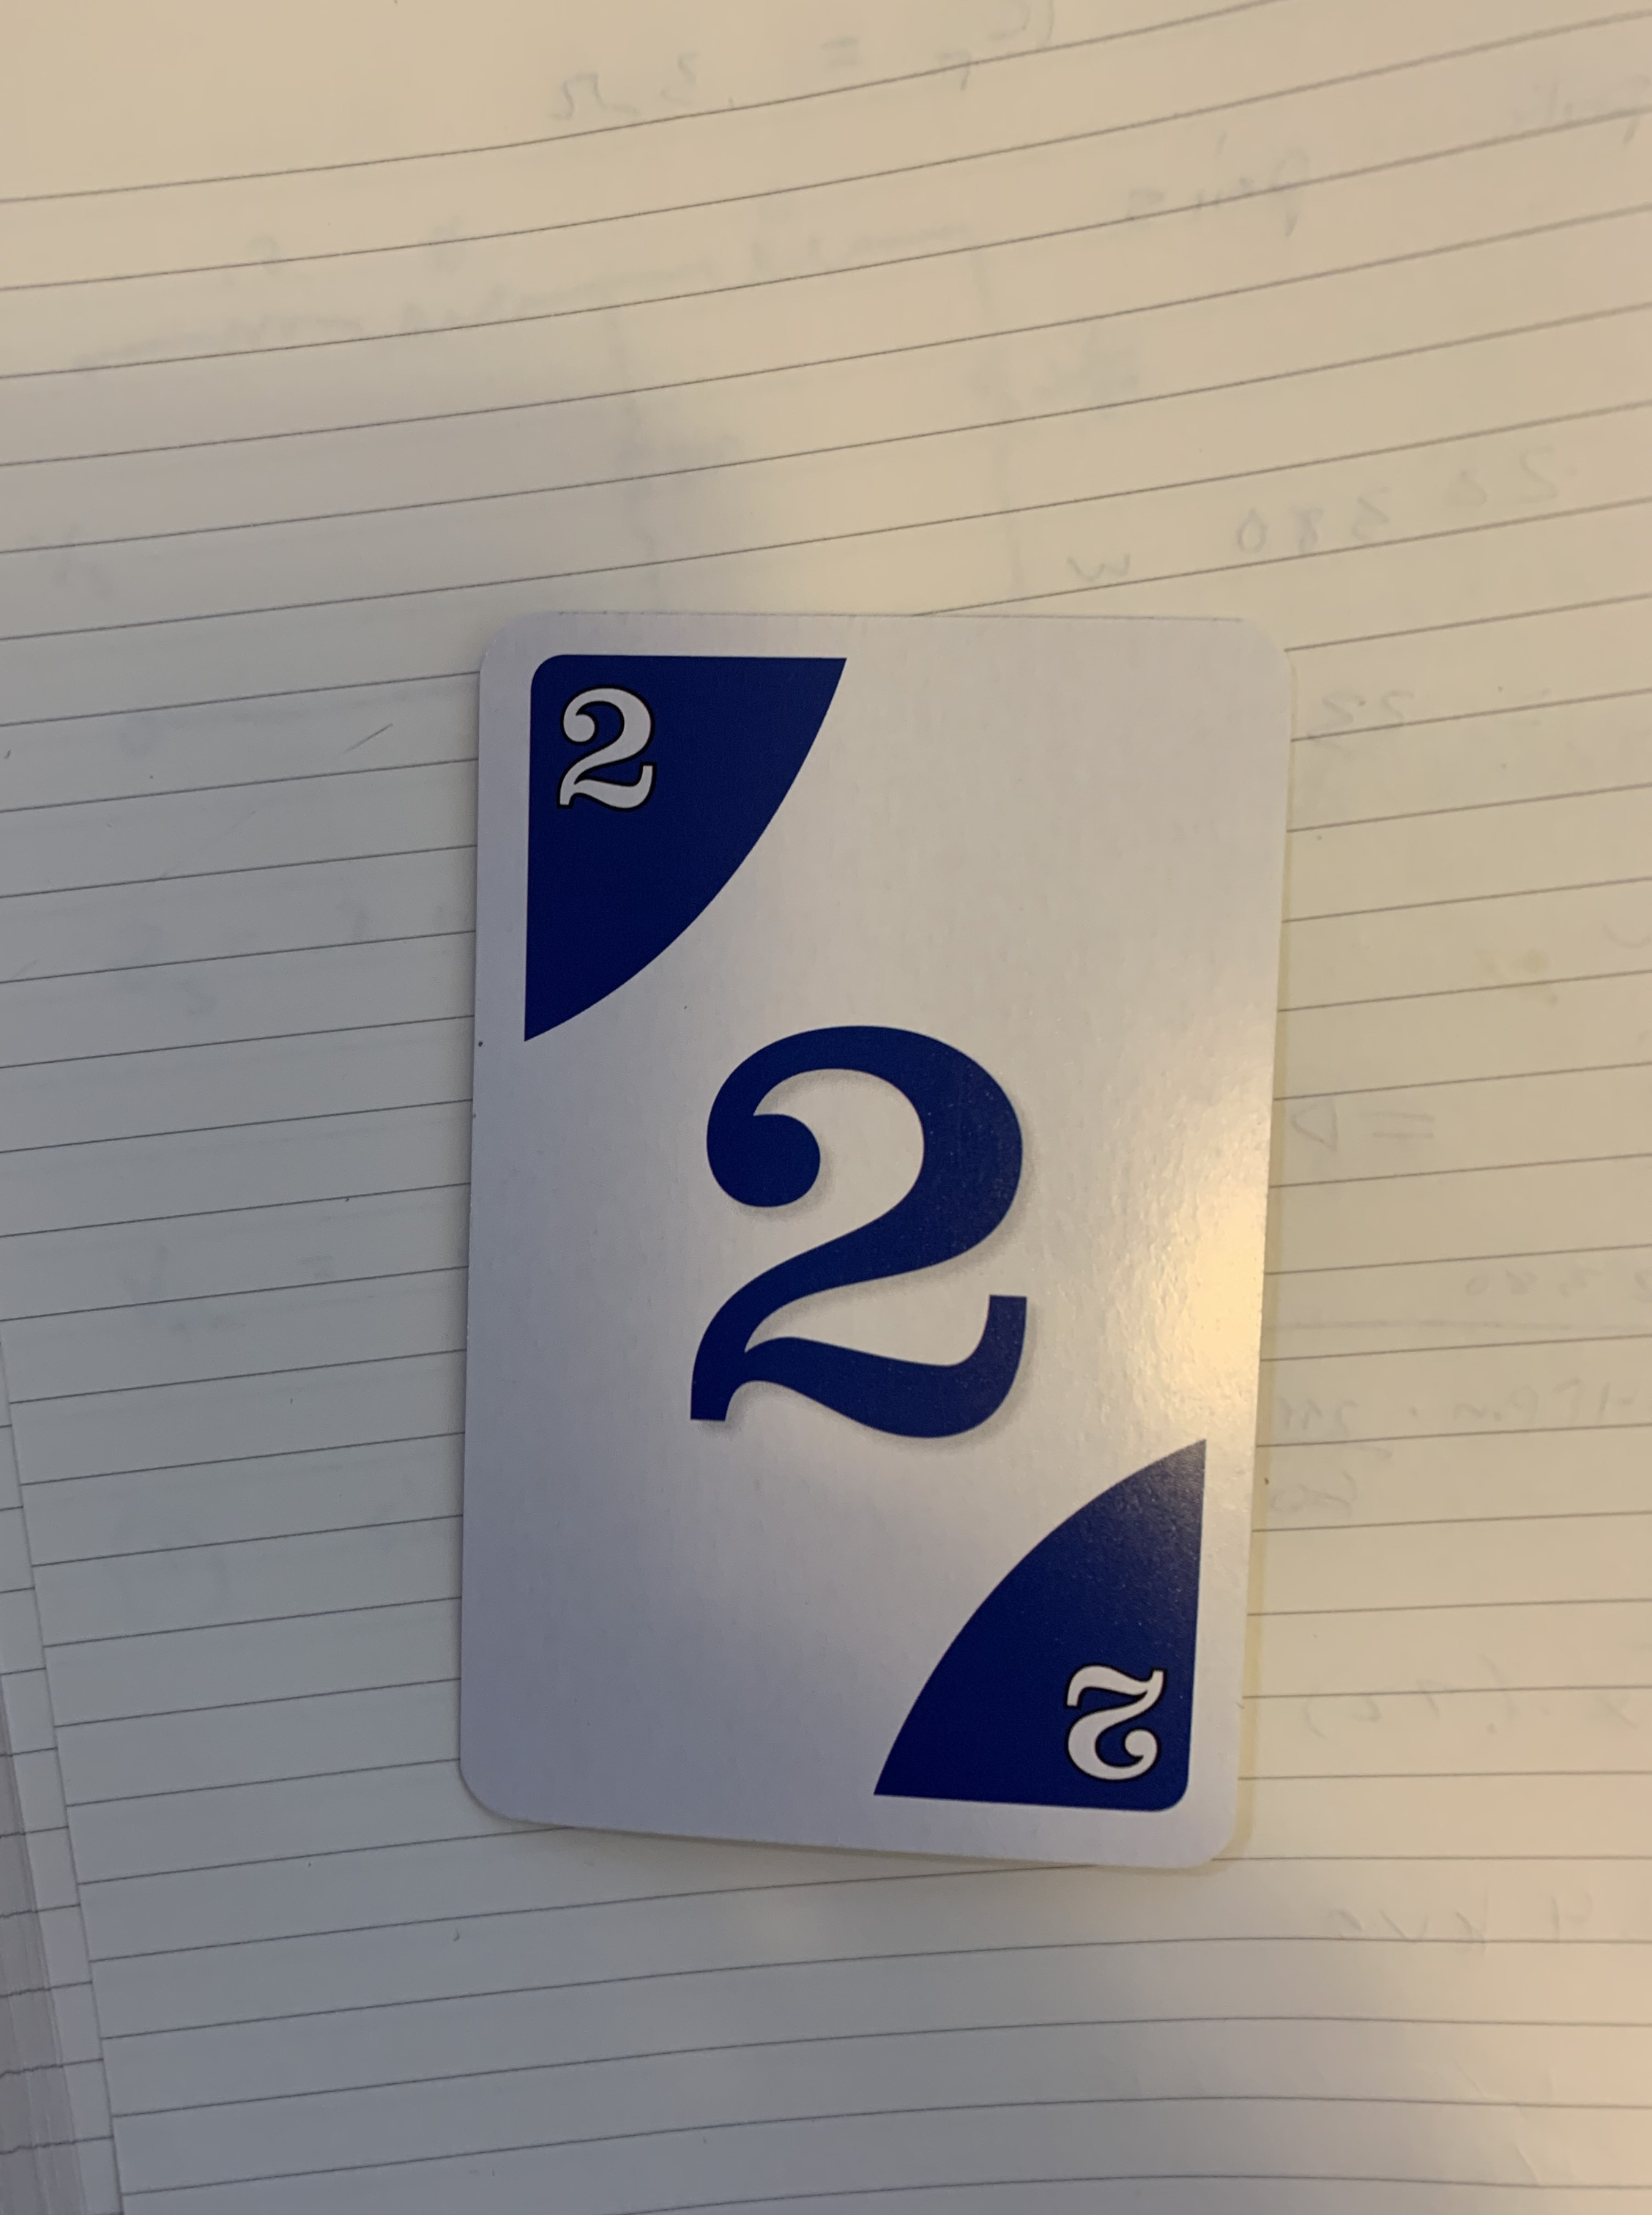two: (418, 594, 1347, 1908)
